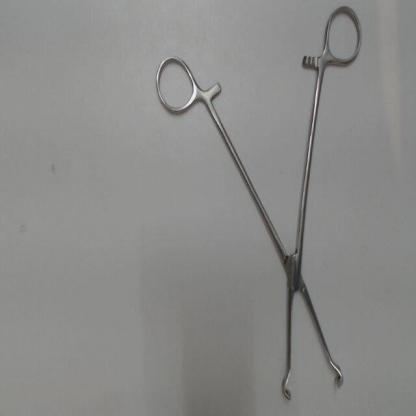8 Babcock Tissue Forceps: (147, 2, 370, 406)
